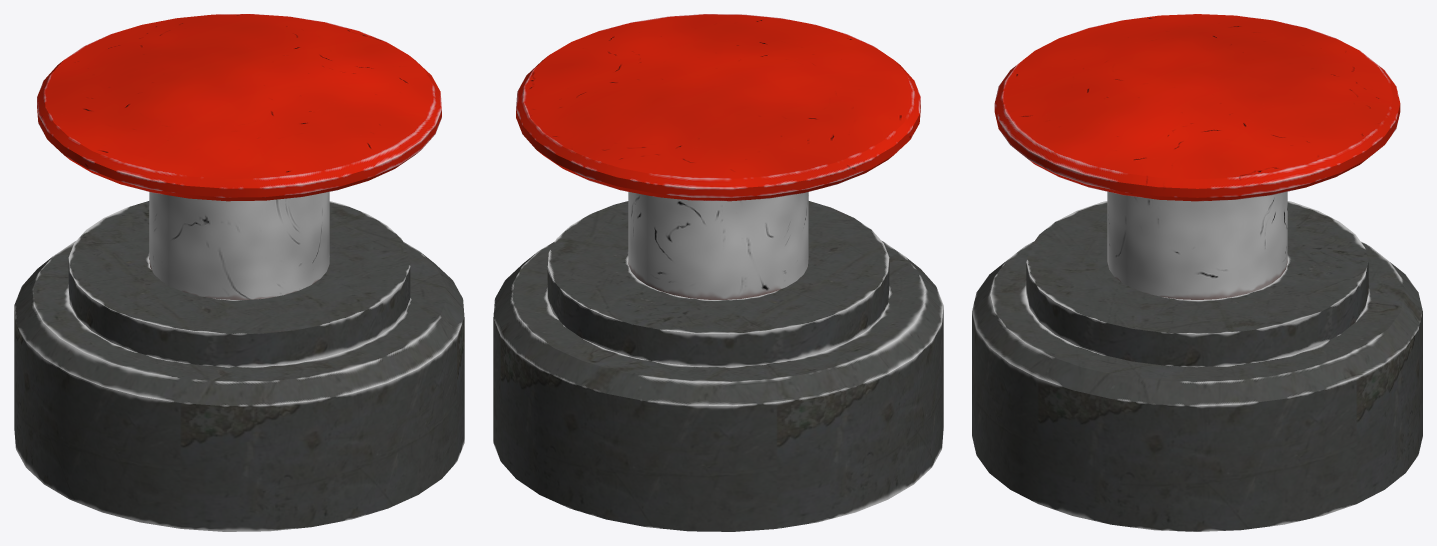
The model's file is small_button.glb.
3 renders of one model, left to right at view 1: azimuth 30°, elevation 25°; view 2: azimuth 150°, elevation 25°; view 3: azimuth 270°, elevation 25°, orthographic.
Visible parts, largest first — view 1: Small Button Frame, Small Button; view 2: Small Button Frame, Small Button; view 3: Small Button Frame, Small Button.
Part boxes in pixels (x1,y1,x2,y2): Small Button Frame: (14,201,464,531); Small Button: (37,14,441,299); Small Button Frame: (493,201,943,531); Small Button: (516,14,920,299); Small Button Frame: (972,201,1422,531); Small Button: (994,14,1400,299).
Bounding box in the file's own units: 0.1437 × 0.1258 × 0.1437.
1 material, 1 textured.
